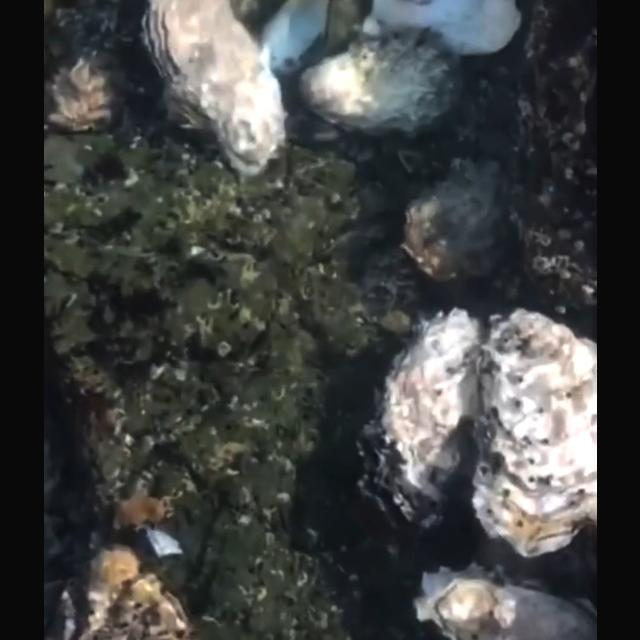Oyster-Closed: (473, 309, 597, 563), (139, 0, 286, 184), (298, 29, 460, 139), (413, 563, 597, 640), (397, 158, 509, 284), (52, 544, 198, 640), (43, 1, 125, 138), (371, 1, 527, 62), (260, 0, 332, 78)
Oyster-Open: (357, 308, 487, 538)
